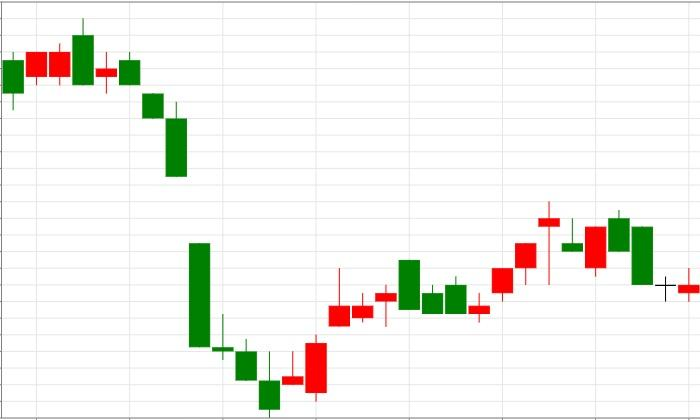inverse_hammer_rise: (119, 51, 280, 417)
